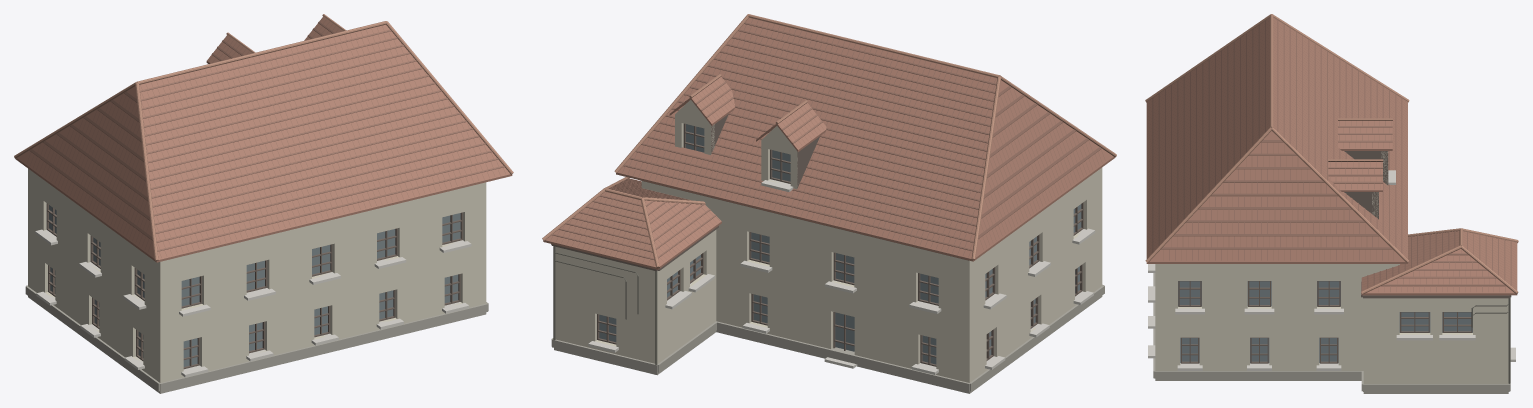
The model's file is jingan-yanan-955-no2-web.glb.
The picture shows the model from 3 angles, left to right: view 1: azimuth 30°, elevation 25°; view 2: azimuth 150°, elevation 25°; view 3: azimuth 270°, elevation 25°; orthographic projection. The views are drawn at different scales.
Visible parts, largest first — view 1: 延安中路955弄2号住宅（北侧老虎窗与凸廊）; view 2: 延安中路955弄2号住宅（北侧老虎窗与凸廊）; view 3: 延安中路955弄2号住宅（北侧老虎窗与凸廊）.
Part boxes in pixels (x1,y1,x2,y2): 延安中路955弄2号住宅（北侧老虎窗与凸廊）: [14, 14, 513, 393]; 延安中路955弄2号住宅（北侧老虎窗与凸廊）: [542, 14, 1116, 393]; 延安中路955弄2号住宅（北侧老虎窗与凸廊）: [1145, 14, 1518, 393].
Bounding box in the file's own units: 21.45 × 14.13 × 20.13.
